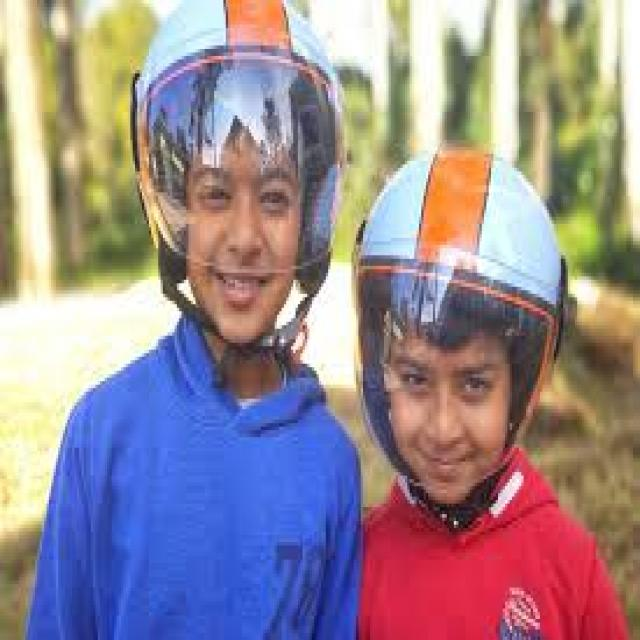with-helmet: (352, 144, 577, 511), (128, 3, 349, 350)
